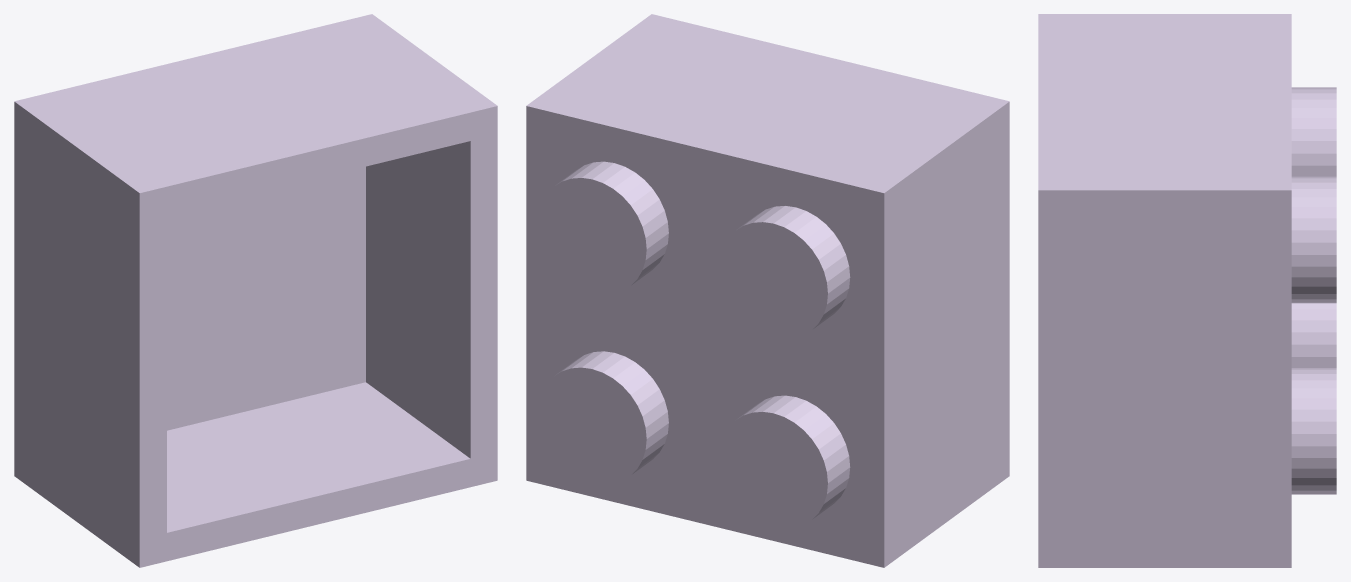
The model's file is lego_2x2_lavender.obj.
The picture shows the model from 3 angles, left to right: view 1: azimuth 30°, elevation 25°; view 2: azimuth 150°, elevation 25°; view 3: azimuth 270°, elevation 25°; orthographic projection.
Visible parts, largest first — view 1: LEGO_Brick; view 2: LEGO_Brick; view 3: LEGO_Brick.
Part boxes in pixels (left/top/right/bottom): LEGO_Brick: left=14, top=14, right=497, bottom=567; LEGO_Brick: left=526, top=14, right=1009, bottom=567; LEGO_Brick: left=1038, top=14, right=1336, bottom=567.
Bounding box in the file's own units: 0.0158 × 0.0158 × 0.0113.
